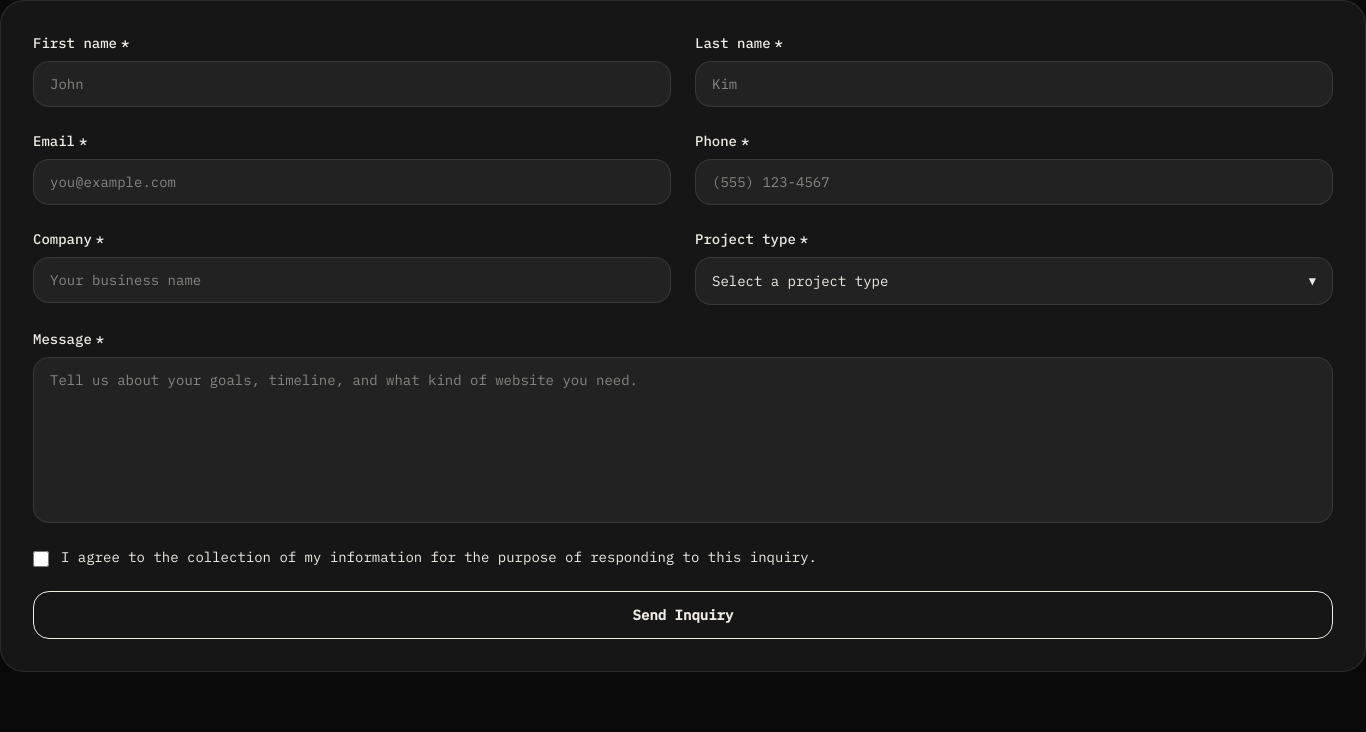
ContactForm › shows required validation errors on empty submit
Click the button "Send Inquiry" at (683, 615), box [33,591,1333,639]
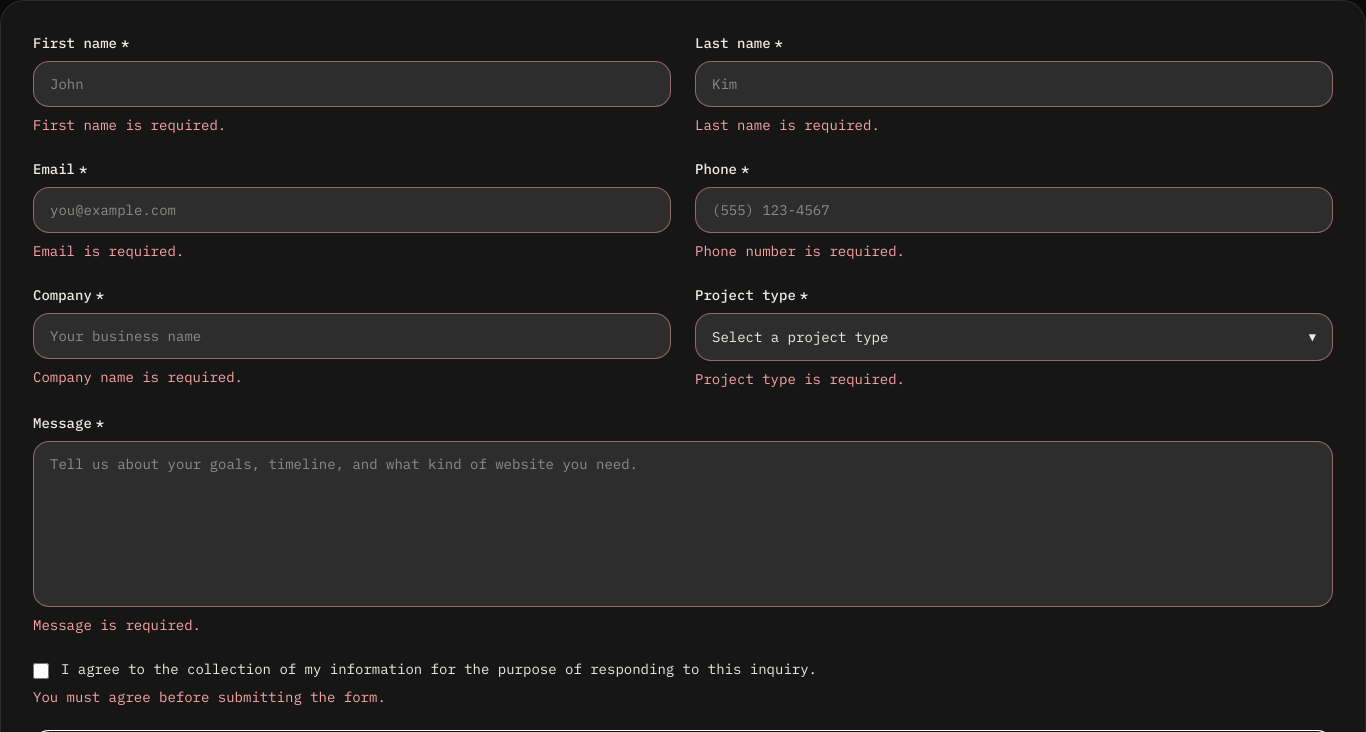
Now the text "First name is required." is shown, box [33,116,226,134]
Now the text "Last name is required." is shown, box [695,116,880,134]
Now the text "Email is required." is shown, box [33,242,184,260]
